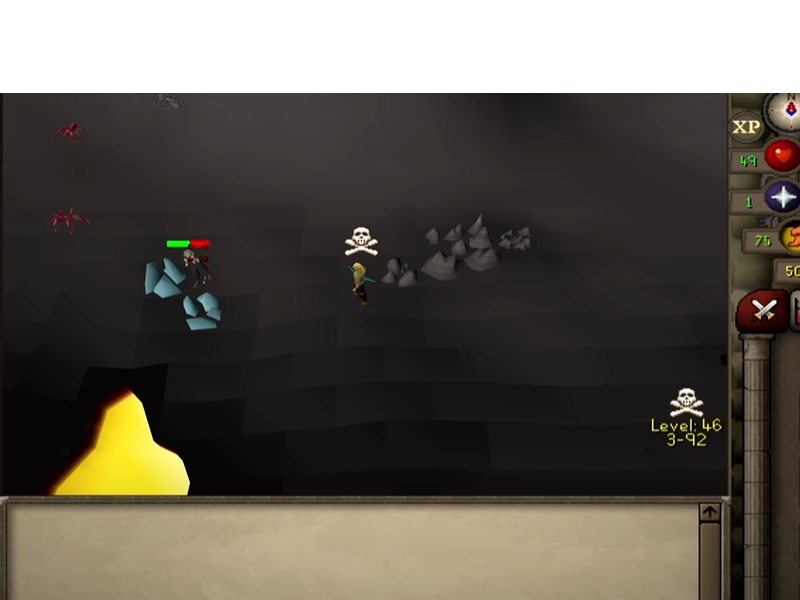rune: (142, 253, 187, 301), (179, 291, 227, 332)
